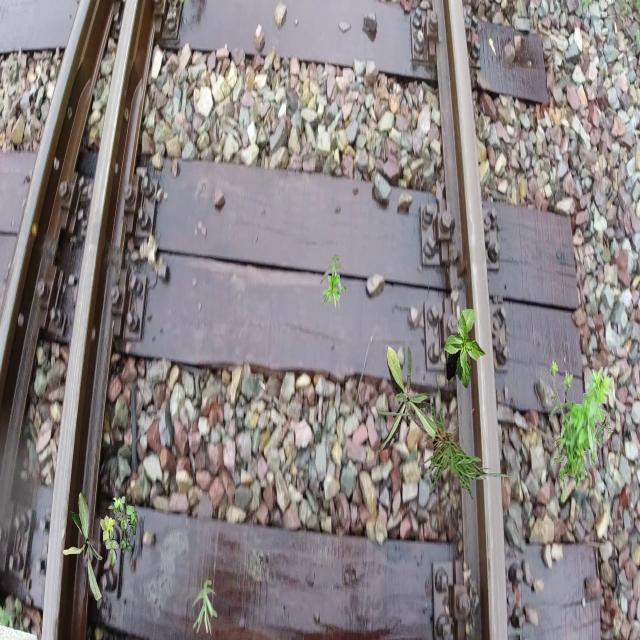Plant: (377, 381, 520, 501), (549, 359, 614, 502), (378, 345, 450, 453), (63, 492, 103, 602), (444, 309, 486, 389), (100, 492, 138, 566), (191, 579, 218, 636), (320, 254, 347, 310), (586, 408, 614, 449), (323, 272, 340, 304)
